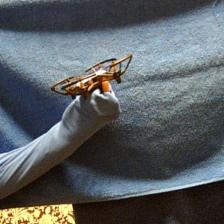drone: (50, 54, 134, 101)
